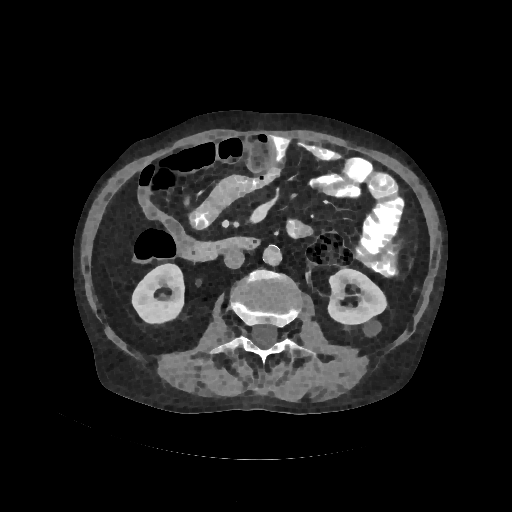Lesion: (355, 316, 385, 339)
